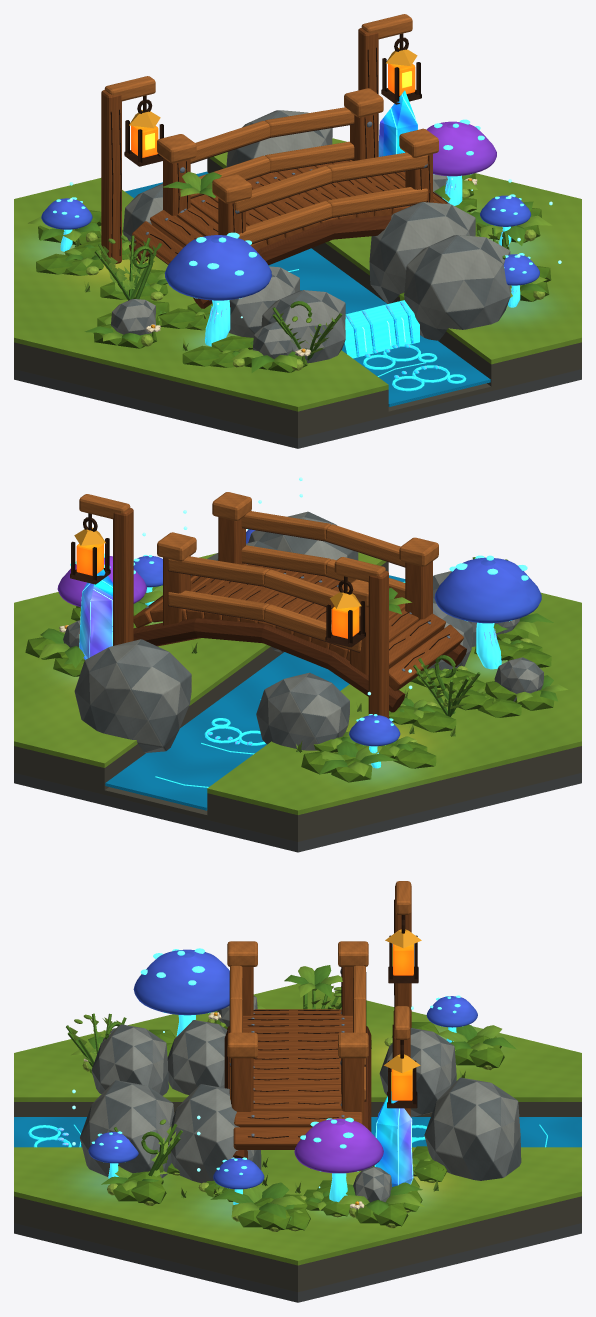
The model's file is hex_woodland_bridge.glb.
3 views of the same model, one above another, from view 1: azimuth 30°, elevation 25°; view 2: azimuth 150°, elevation 25°; view 3: azimuth 270°, elevation 25° (orthographic).
Parts seen in each view (by area): view 1: Meadow river bank.002, Meadow river bank.003, Angular mossy forest boulder.002, Cut river bank.002, Continuous river water.001, River hex stone foundation.001, Angular mossy forest boulder.006, Broad faceted mushroom cap.001, Cut river bank.003, Angular mossy forest boulder.001, River hex bed.001, Woodland lantern upright.001 (+39 smaller); view 2: Meadow river bank.002, Meadow river bank.003, Continuous river water.001, Angular mossy forest boulder.004, Cut river bank.002, River hex stone foundation.001, Angular mossy forest boulder.003, Broad faceted mushroom cap.001, Arched wooden stringer.001, Cut river bank.003, River hex bed.001, Woodland lantern upright.001 (+40 smaller); view 3: Meadow river bank.003, Meadow river bank.002, Cut river bank.003, Angular mossy forest boulder.004, River hex stone foundation.001, Angular mossy forest boulder.002, Angular mossy forest boulder.006, Broad faceted mushroom cap.001, Continuous river water.001, Angular mossy forest boulder.001, Broad faceted mushroom cap.003, Angular mossy forest boulder.005 (+38 smaller).
Boxes of the visible parts, bbox=[...] form: Meadow river bank.002: bbox=[14, 178, 388, 411]; Meadow river bank.003: bbox=[209, 138, 581, 364]; Angular mossy forest boulder.002: bbox=[404, 235, 510, 340]; Cut river bank.002: bbox=[14, 342, 388, 433]; Continuous river water.001: bbox=[125, 171, 490, 406]; River hex stone foundation.001: bbox=[14, 369, 581, 448]; Angular mossy forest boulder.006: bbox=[369, 202, 475, 303]; Broad faceted mushroom cap.001: bbox=[164, 235, 271, 300]; Cut river bank.003: bbox=[207, 158, 581, 386]; Angular mossy forest boulder.001: bbox=[261, 290, 345, 363]; River hex bed.001: bbox=[14, 364, 581, 438]; Woodland lantern upright.001: bbox=[101, 90, 121, 265]; Meadow river bank.002: bbox=[207, 592, 581, 814]; Meadow river bank.003: bbox=[14, 552, 386, 767]; Continuous river water.001: bbox=[105, 575, 405, 810]; Angular mossy forest boulder.004: bbox=[74, 639, 191, 752]; Cut river bank.002: bbox=[207, 746, 581, 837]; River hex stone foundation.001: bbox=[14, 773, 581, 852]; Angular mossy forest boulder.003: bbox=[256, 672, 349, 750]; Broad faceted mushroom cap.001: bbox=[434, 557, 541, 623]; Arched wooden stringer.001: bbox=[133, 618, 405, 712]; Cut river bank.003: bbox=[14, 562, 388, 790]; River hex bed.001: bbox=[14, 768, 581, 841]; Woodland lantern upright.001: bbox=[368, 571, 388, 718]; Meadow river bank.003: bbox=[14, 1147, 581, 1265]; Meadow river bank.002: bbox=[14, 983, 581, 1101]; Cut river bank.003: bbox=[14, 1196, 581, 1287]; Angular mossy forest boulder.004: bbox=[424, 1077, 521, 1180]; River hex stone foundation.001: bbox=[14, 1223, 581, 1302]; Angular mossy forest boulder.002: bbox=[80, 1080, 174, 1178]; Angular mossy forest boulder.006: bbox=[170, 1084, 261, 1183]; Broad faceted mushroom cap.001: bbox=[133, 949, 229, 1015]; Continuous river water.001: bbox=[14, 1117, 581, 1147]; Angular mossy forest boulder.001: bbox=[91, 1024, 168, 1095]; Broad faceted mushroom cap.003: bbox=[294, 1118, 383, 1173]; Angular mossy forest boulder.005: bbox=[167, 1020, 227, 1094].
Bounding box in the file's own units: 5.1 × 1.86 × 4.42.
57 materials, 43 textured.
